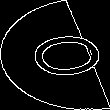O_E: (7, 28, 103, 82)
